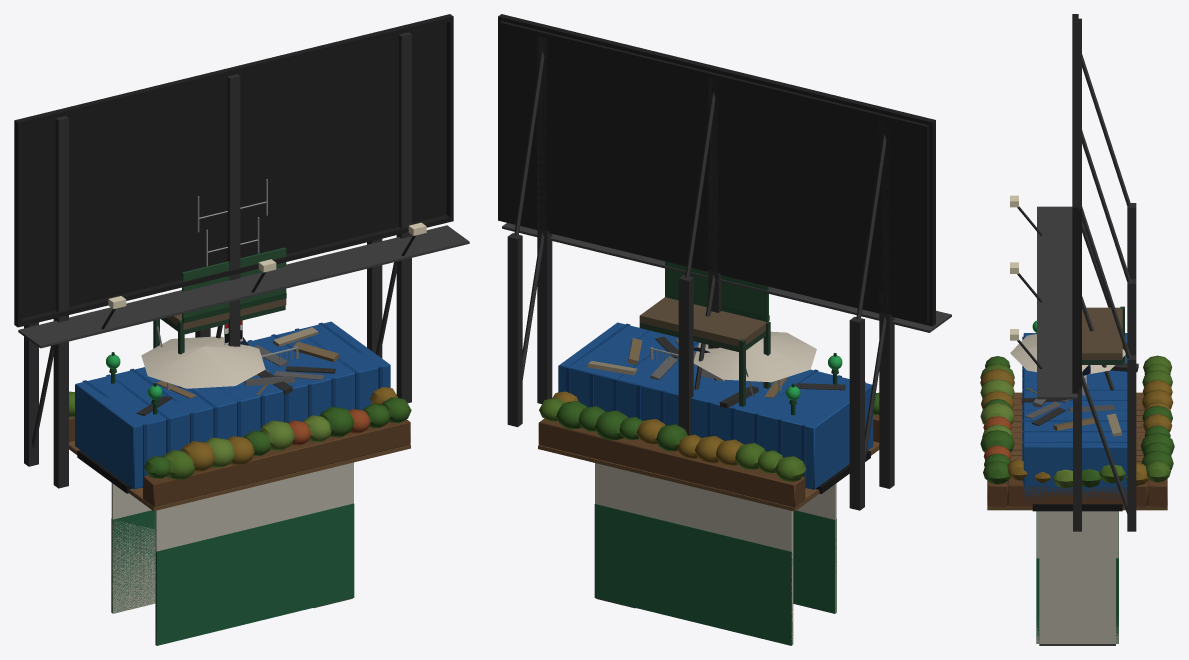
File: props.glb
3 views of the same model, side by side, from view 1: azimuth 30°, elevation 25°; view 2: azimuth 150°, elevation 25°; view 3: azimuth 270°, elevation 25° (orthographic). The views are drawn at different scales.
Visible parts, largest first — view 1: billboard, subwaypit, rolloff, garden, shed; view 2: billboard, subwaypit, rolloff, garden, shed; view 3: billboard, garden, subwaypit, rolloff, shed.
Part boxes in pixels (x1,y1,x2,y2): billboard: (14, 14, 469, 488); subwaypit: (111, 462, 354, 645); rolloff: (75, 321, 390, 493); garden: (69, 336, 411, 511); shed: (153, 247, 286, 387); billboard: (498, 14, 951, 510); subwaypit: (594, 463, 836, 645); rolloff: (558, 322, 873, 493); garden: (538, 331, 879, 511); shed: (639, 261, 770, 406); billboard: (1010, 14, 1136, 531); garden: (980, 334, 1174, 510); subwaypit: (1036, 511, 1118, 645); rolloff: (1021, 333, 1138, 511); shed: (1082, 306, 1124, 364).
Bounding box in the file's own units: 10.16 × 12.03 × 4.32.
